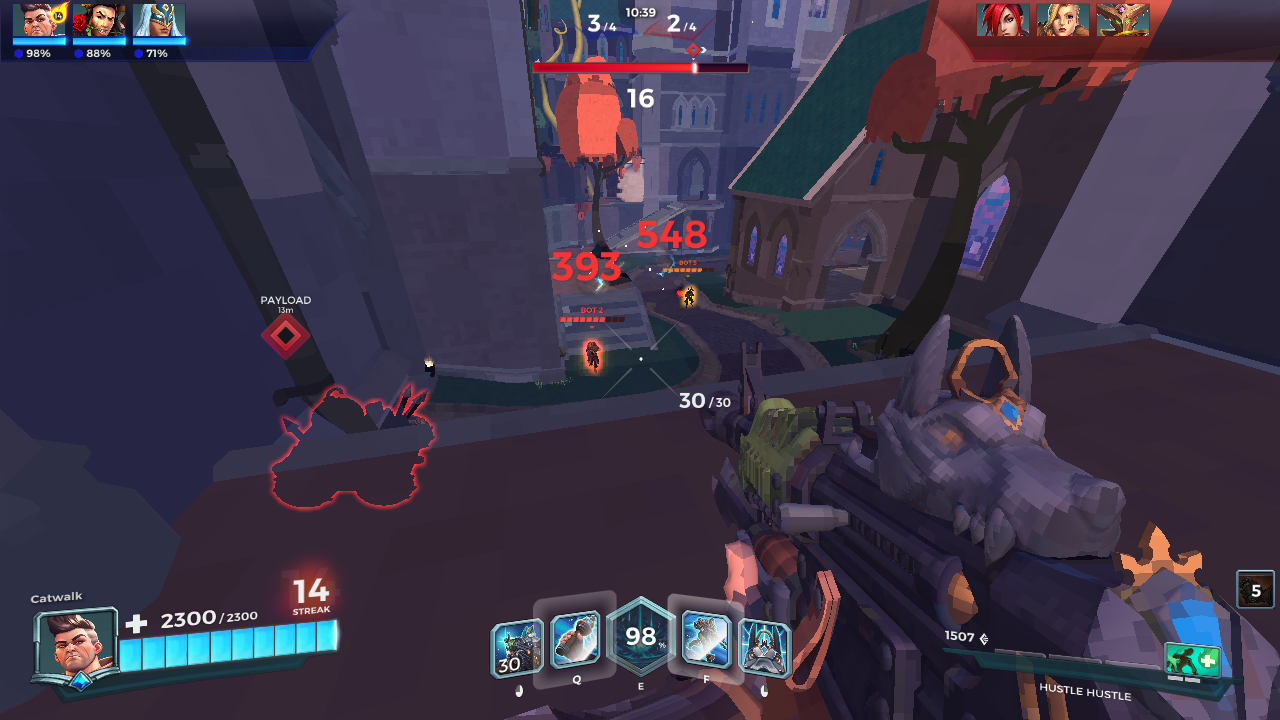model: (584, 338, 604, 371), (681, 284, 700, 310)
